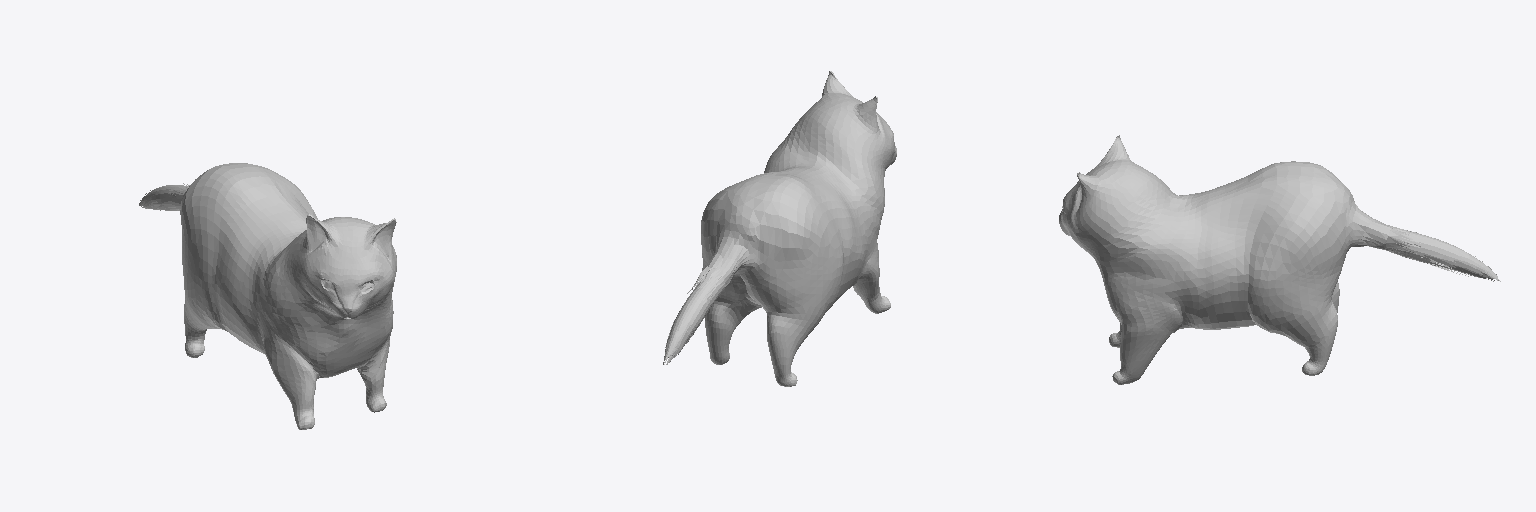
The model's file is cat.obj.
3 renders of one model, left to right at view 1: azimuth 30°, elevation 25°; view 2: azimuth 150°, elevation 25°; view 3: azimuth 270°, elevation 25°, orthographic.
Parts seen in each view (by area): view 1: Muchkin1.002; view 2: Muchkin1.002; view 3: Muchkin1.002.
Boxes of the visible parts, <box> form: Muchkin1.002: <box>139,163,396,429</box>; Muchkin1.002: <box>663,71,896,386</box>; Muchkin1.002: <box>1059,135,1500,384</box>.
Bounding box in the file's own units: 0.3303 × 0.5339 × 1.